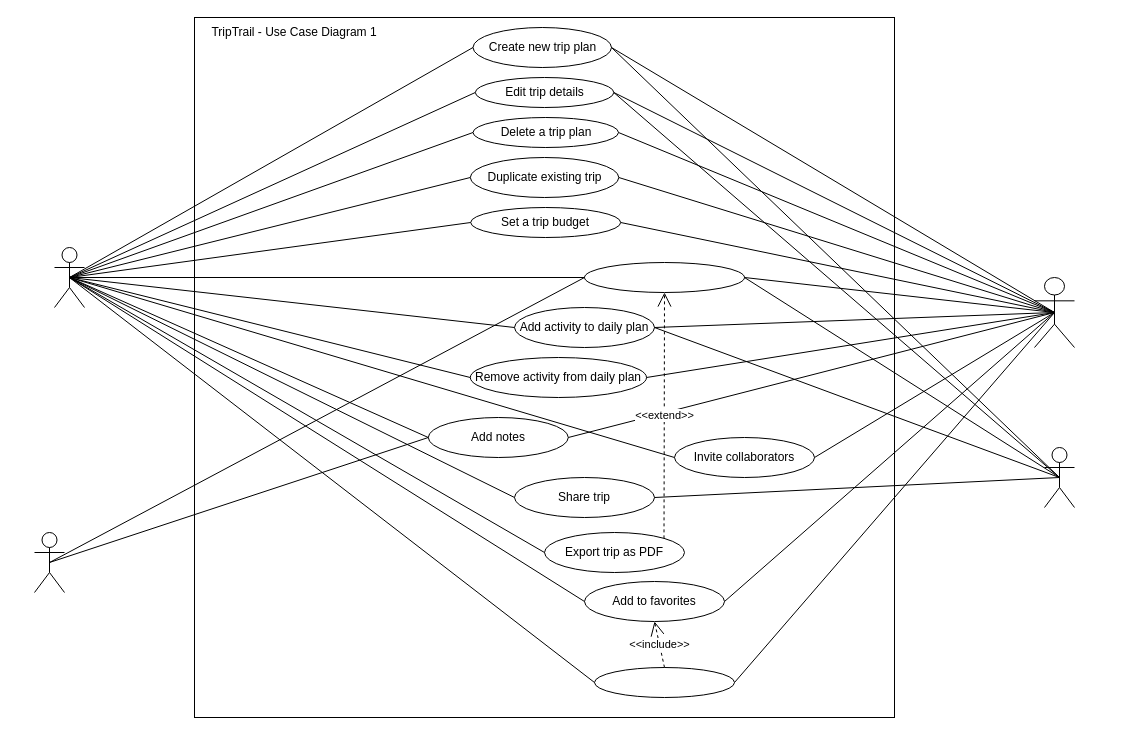
Image size: 1126x735. Some labels were removed from this diagram. The shapes that lost their labels are listed below. From the top down, each one's box as (x1, y1, x2, y2) in pixels, then its label:
(54, 246, 84, 308): User
(584, 262, 744, 292): View a trip plan
(1034, 276, 1074, 348): Database
(1044, 446, 1074, 508): 3rd Party Services (Google Maps)
(34, 532, 64, 592): Collaborator
(594, 666, 734, 698): Manage favorites
